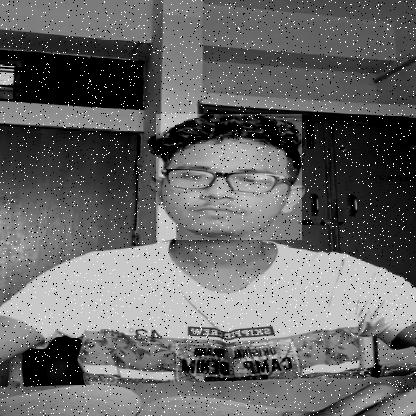Normal: (156, 114, 302, 240)
